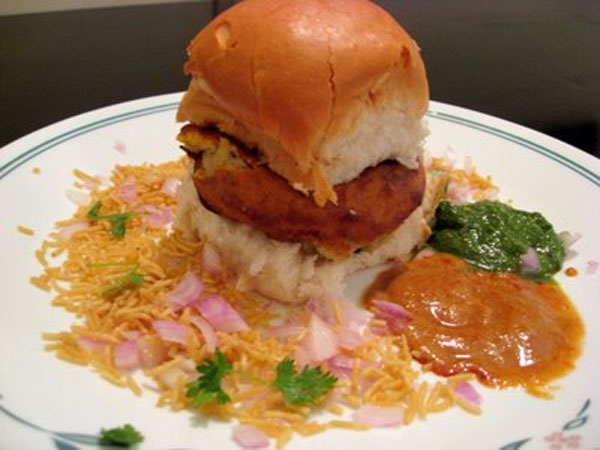vada pav: (181, 6, 428, 253)
